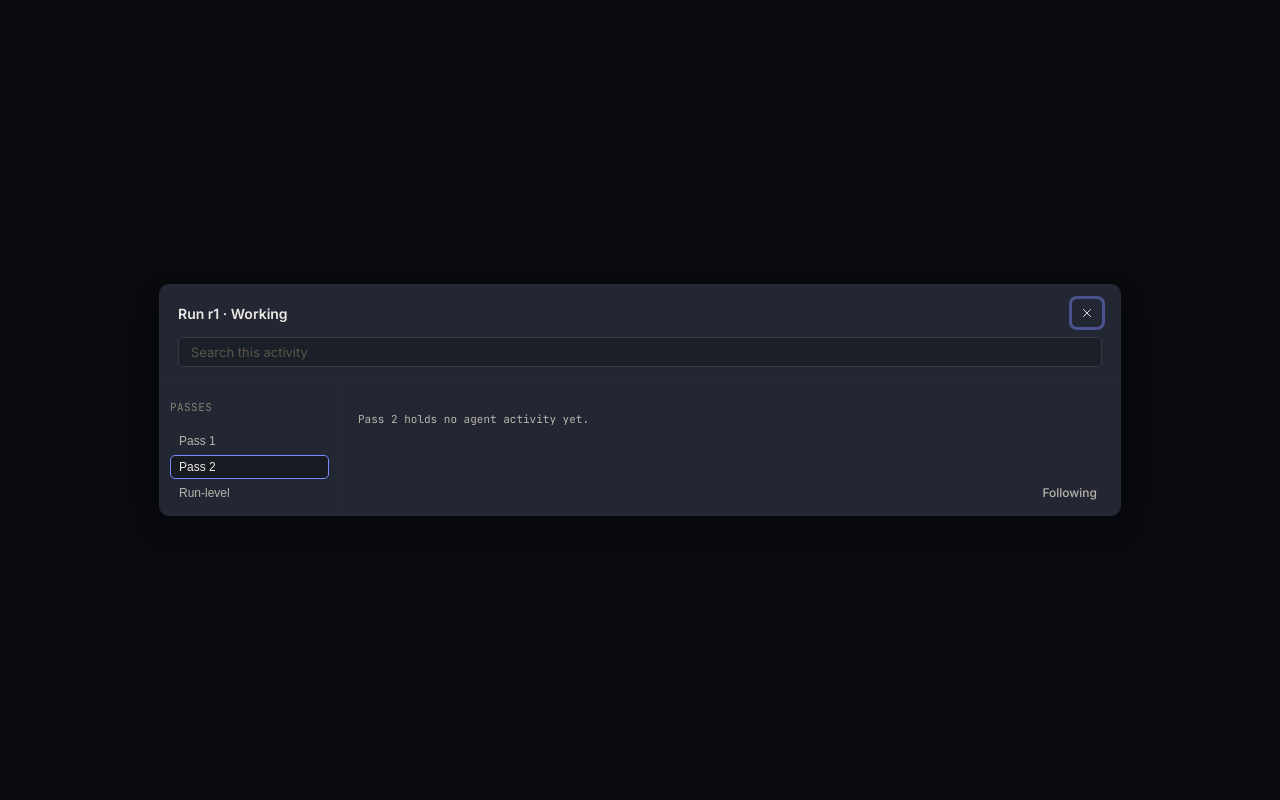
Test: the graduation log window: the five states › GLW-FR-NYQF, GLW-FR-DDXJ: an empty run-level entry says so in words
The image size is (1280, 800).
Click the button with aria-label "Run-level agent activity of this phase" at (250, 493), box x1=170 y1=481 x2=329 y2=505
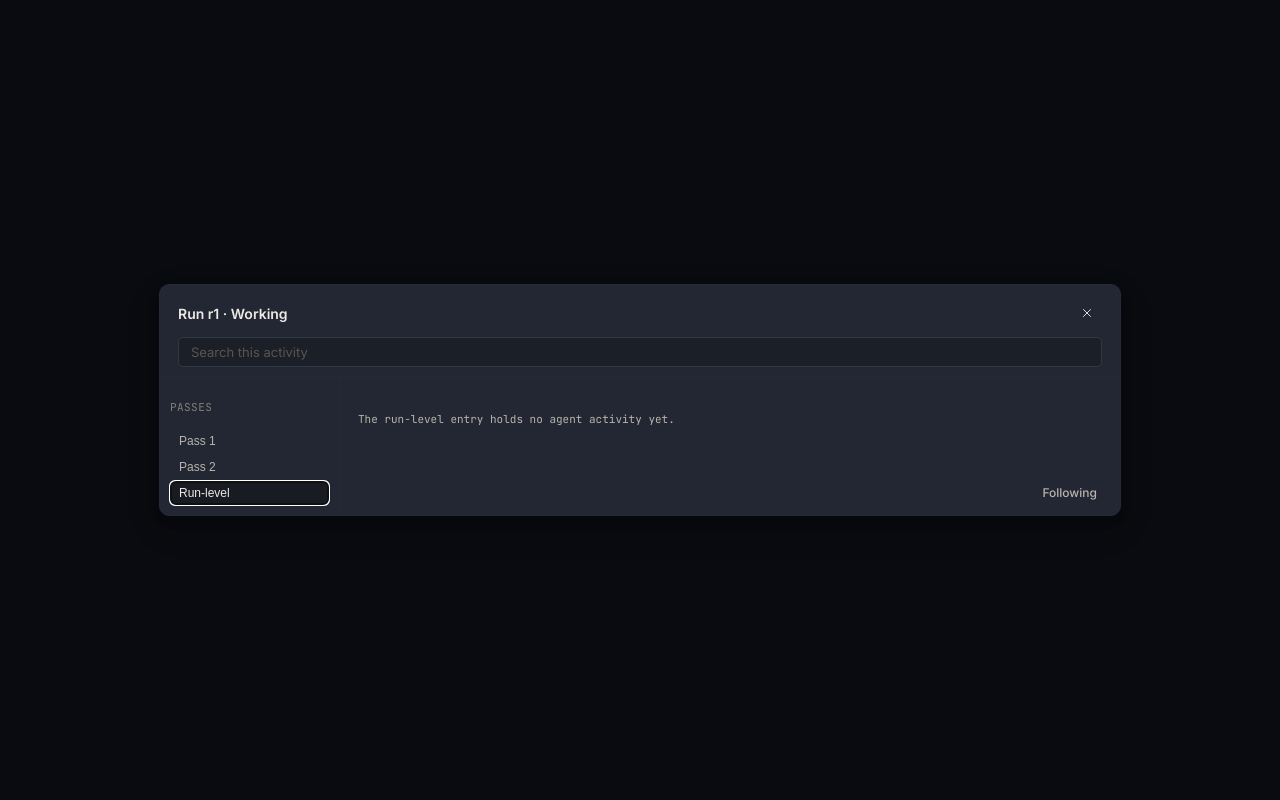
Now the text with test id "glw-empty" reads "The run-level entry holds no agent activity yet.", box x1=358 y1=412 x2=675 y2=426
